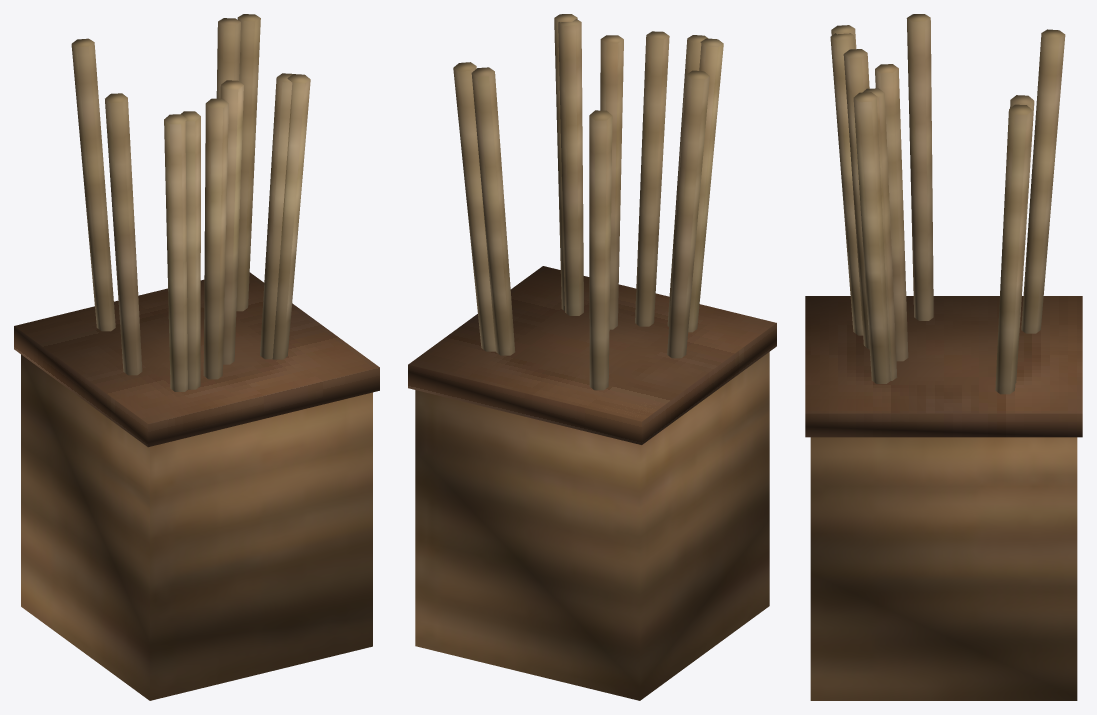
File: chopstick_box.glb
The picture shows the model from 3 angles, left to right: view 1: azimuth 30°, elevation 25°; view 2: azimuth 150°, elevation 25°; view 3: azimuth 270°, elevation 25°; orthographic projection. The views are drawn at different scales.
Visible parts, largest first — view 1: chopstick_box_wood, chopstick_box_wood_light, chopstick_box_wood_dark; view 2: chopstick_box_wood, chopstick_box_wood_light, chopstick_box_wood_dark; view 3: chopstick_box_wood, chopstick_box_wood_light, chopstick_box_wood_dark.
Part boxes in pixels (x1,y1,x2,y2): chopstick_box_wood: (21, 354, 372, 700); chopstick_box_wood_light: (71, 14, 310, 391); chopstick_box_wood_dark: (14, 272, 379, 447); chopstick_box_wood: (415, 352, 769, 700); chopstick_box_wood_light: (453, 14, 723, 390); chopstick_box_wood_dark: (408, 266, 776, 444); chopstick_box_wood: (810, 437, 1077, 700); chopstick_box_wood_light: (830, 14, 1065, 394); chopstick_box_wood_dark: (805, 296, 1082, 437).
Bounding box in the file's own units: 0.208 × 0.4808 × 0.208.
3 materials, 3 textured.
